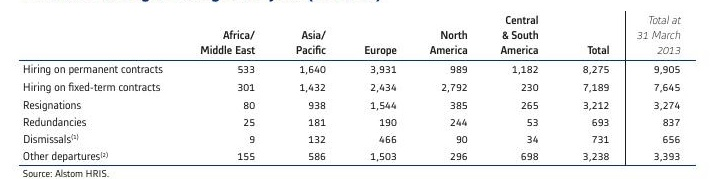table: (0, 0, 715, 179)
